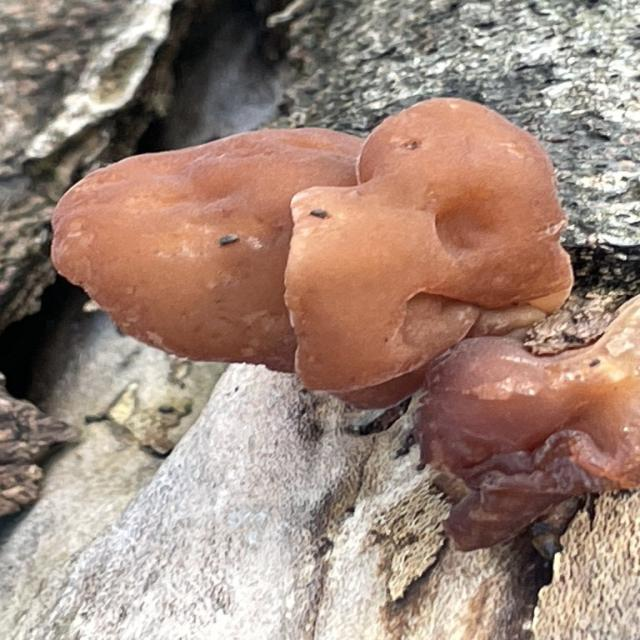Matang: (38, 116, 418, 401), (271, 90, 584, 399), (406, 286, 640, 557)
